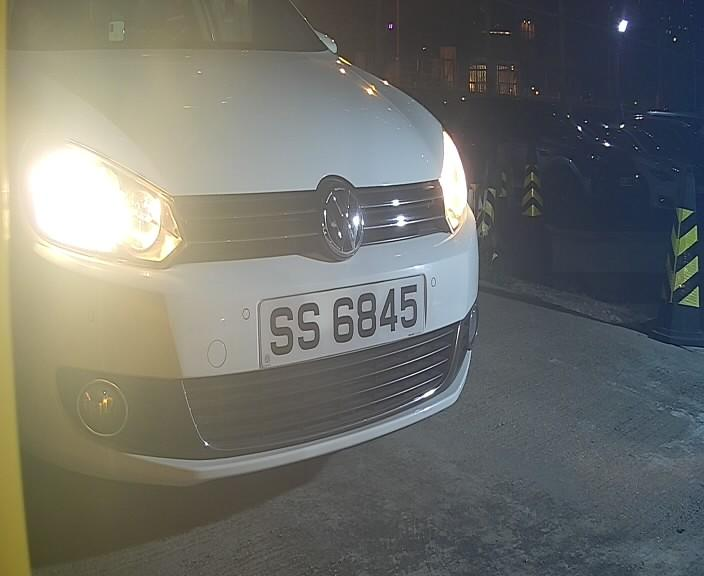License Plate: (246, 271, 437, 371)
